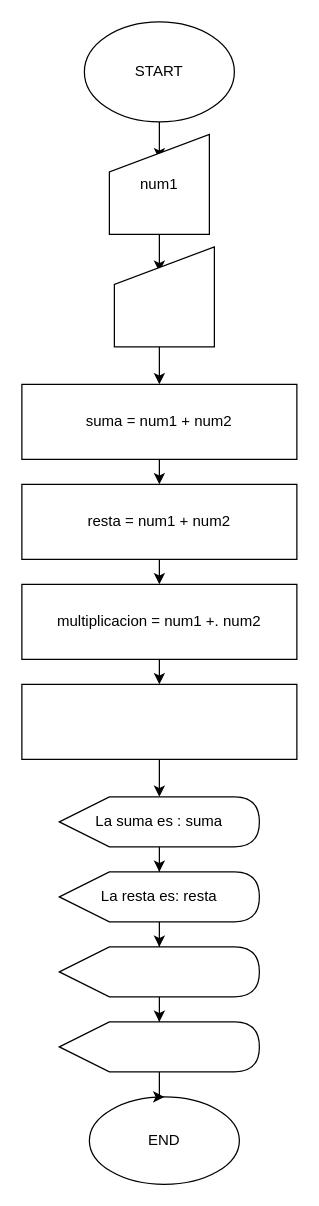
Image size: 319x1206. Some labels were removed from this diagram. Here are the shapes that lost their labels. From the top down, the box of each, then its label:
(113, 246, 214, 347): num2
(21, 683, 297, 759): division = num1 + num2
(58, 946, 259, 997): La multiplicacion es: multiplicacion
(58, 1021, 259, 1072): La division es: division
